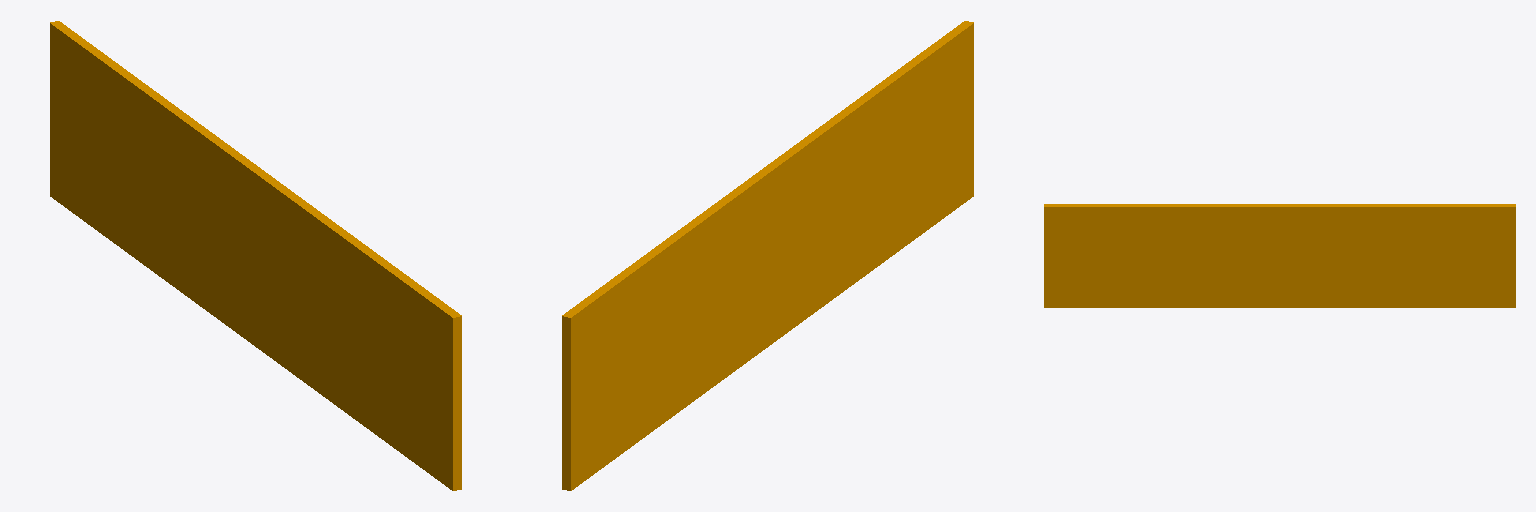
The robot description file, URDF, robot "dock":
<?xml version="1.0"?>

<!-- Copyright (c) 2017, United States Government, as represented by the     -->
<!-- Administrator of the National Aeronautics and Space Administration.     -->
<!--                                                                         -->
<!-- All rights reserved.                                                    -->
<!--                                                                         -->
<!-- The Astrobee platform is licensed under the Apache License, Version 2.0 -->
<!-- (the "License"); you may not use this file except in compliance with    -->
<!-- the License. You may obtain a copy of the License at                    -->
<!--                                                                         -->
<!--     http://www.apache.org/licenses/LICENSE-2.0                          -->
<!--                                                                         -->
<!-- Unless required by applicable law or agreed to in writing, software     -->
<!-- distributed under the License is distributed on an "AS IS" BASIS,       -->
<!-- WITHOUT WARRANTIES OR CONDITIONS OF ANY KIND, either express or         -->
<!-- implied. See the License for the specific language governing            -->
<!-- permissions and limitations under the License.                          -->

<robot name="dock" xmlns:xacro="http://www.ros.org/wiki/xacro">
  <link name="body">
    <inertial>
      <mass value="20"/>
      <origin xyz="0 0 0"/>
      <inertia ixx="1" ixy="0" ixz="0" iyy="1" iyz="0" izz="1"/>
    </inertial>
    <visual name="dock_body_visual">
      <origin xyz="0 0 0" rpy="0 0 0" />
      <geometry>
        <mesh filename="package://astrobee_dock/meshes/dock_base.dae"/>
      </geometry>
    </visual>
    <visual name="dock_pins_visual">
      <origin xyz="0 0 0" rpy="0 0 0" />
      <geometry>
        <mesh filename="package://astrobee_dock/meshes/dock_pins.dae"/>
      </geometry>
    </visual>
    <visual name="dock_target_visual">
      <origin xyz="0 0 0" rpy="0 0 0" />
      <geometry>
        <mesh filename="package://astrobee_dock/meshes/dock_target.dae"/>
      </geometry>
    </visual>
    <visual name="dock_handles_visual">
      <origin xyz="0 0 0" rpy="0 0 0" />
      <geometry>
        <mesh filename="package://astrobee_dock/meshes/dock_handles.dae"/>
      </geometry>
    </visual>
    <collision name="dock_body_collision">
      <origin xyz="0 0 0" rpy="0 0 0" />
      <geometry>
        <mesh filename="package://astrobee_dock/meshes/dock_base.dae"/>
      </geometry>
      <gazebo>
        <surface>
          <contact>
            <collide_bitmask>0x02</collide_bitmask>
          </contact>
        </surface>
      </gazebo>
    </collision>
  </link>
</robot>

--- Render facts (derived) ---
3 views of the same robot in one strip: view 1: azimuth 30°, elevation 25°; view 2: azimuth 150°, elevation 25°; view 3: azimuth 270°, elevation 25° (orthographic).
Robot: dock — 1 links, 0 joints (none); root link body; default pose: every joint at zero.
Visible links, largest first — view 1: body; view 2: body; view 3: body.
Link boxes in pixels (x1,y1,x2,y2): body: [50, 21, 461, 490]; body: [562, 21, 973, 490]; body: [1044, 204, 1515, 307].
Bounding box of the posed robot: 0.005 × 0.38 × 0.09 m (x, y, z).
1 mesh visuals loaded from 4 distinct referenced files (1 Collada DAE); not drawn: 3 (reference not matched to a file when rendering).